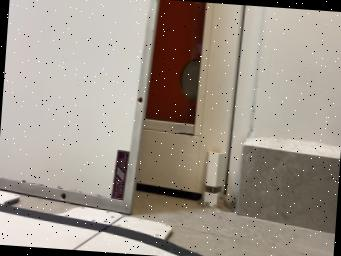street: (0, 204, 203, 256), (0, 204, 203, 256), (0, 204, 203, 256)
